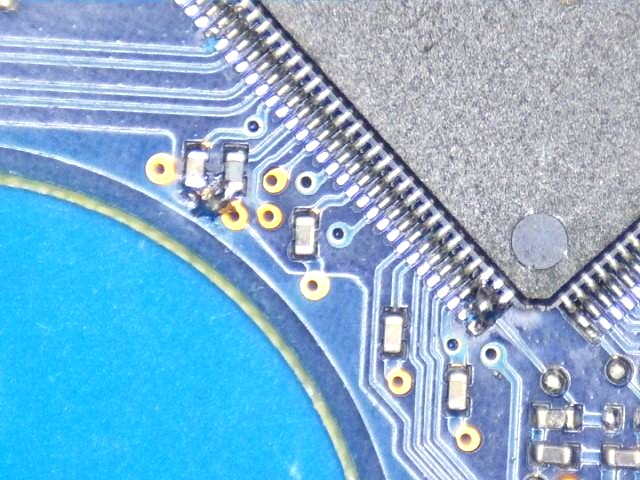pcb_defect: (447, 266, 515, 335), (185, 172, 241, 199)
